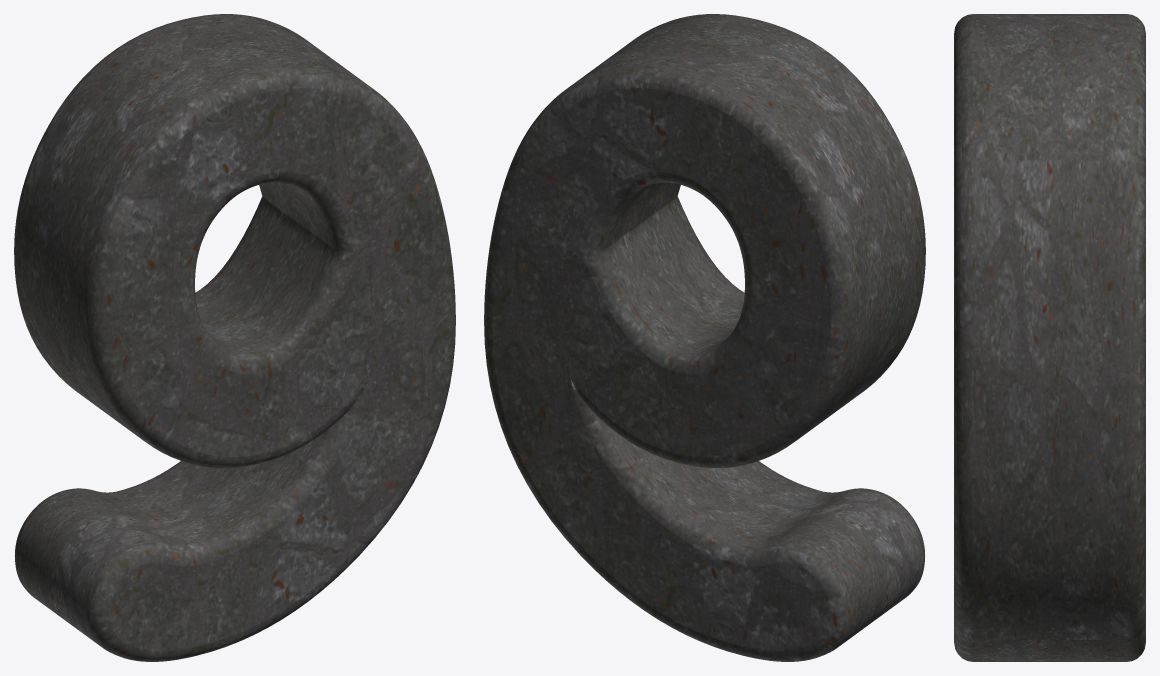
3 renders of one model, left to right at view 1: azimuth 30°, elevation 25°; view 2: azimuth 150°, elevation 25°; view 3: azimuth 270°, elevation 25°, orthographic. The views are drawn at different scales.
Visible parts, largest first — view 1: Text; view 2: Text; view 3: Text.
Boxes of the visible parts, bbox=[...] form: Text: bbox=[14, 14, 455, 661]; Text: bbox=[484, 14, 925, 661]; Text: bbox=[954, 14, 1145, 661].
Bounding box in the file's own units: 24.62 × 36.3 × 10.
1 material, 1 textured.
